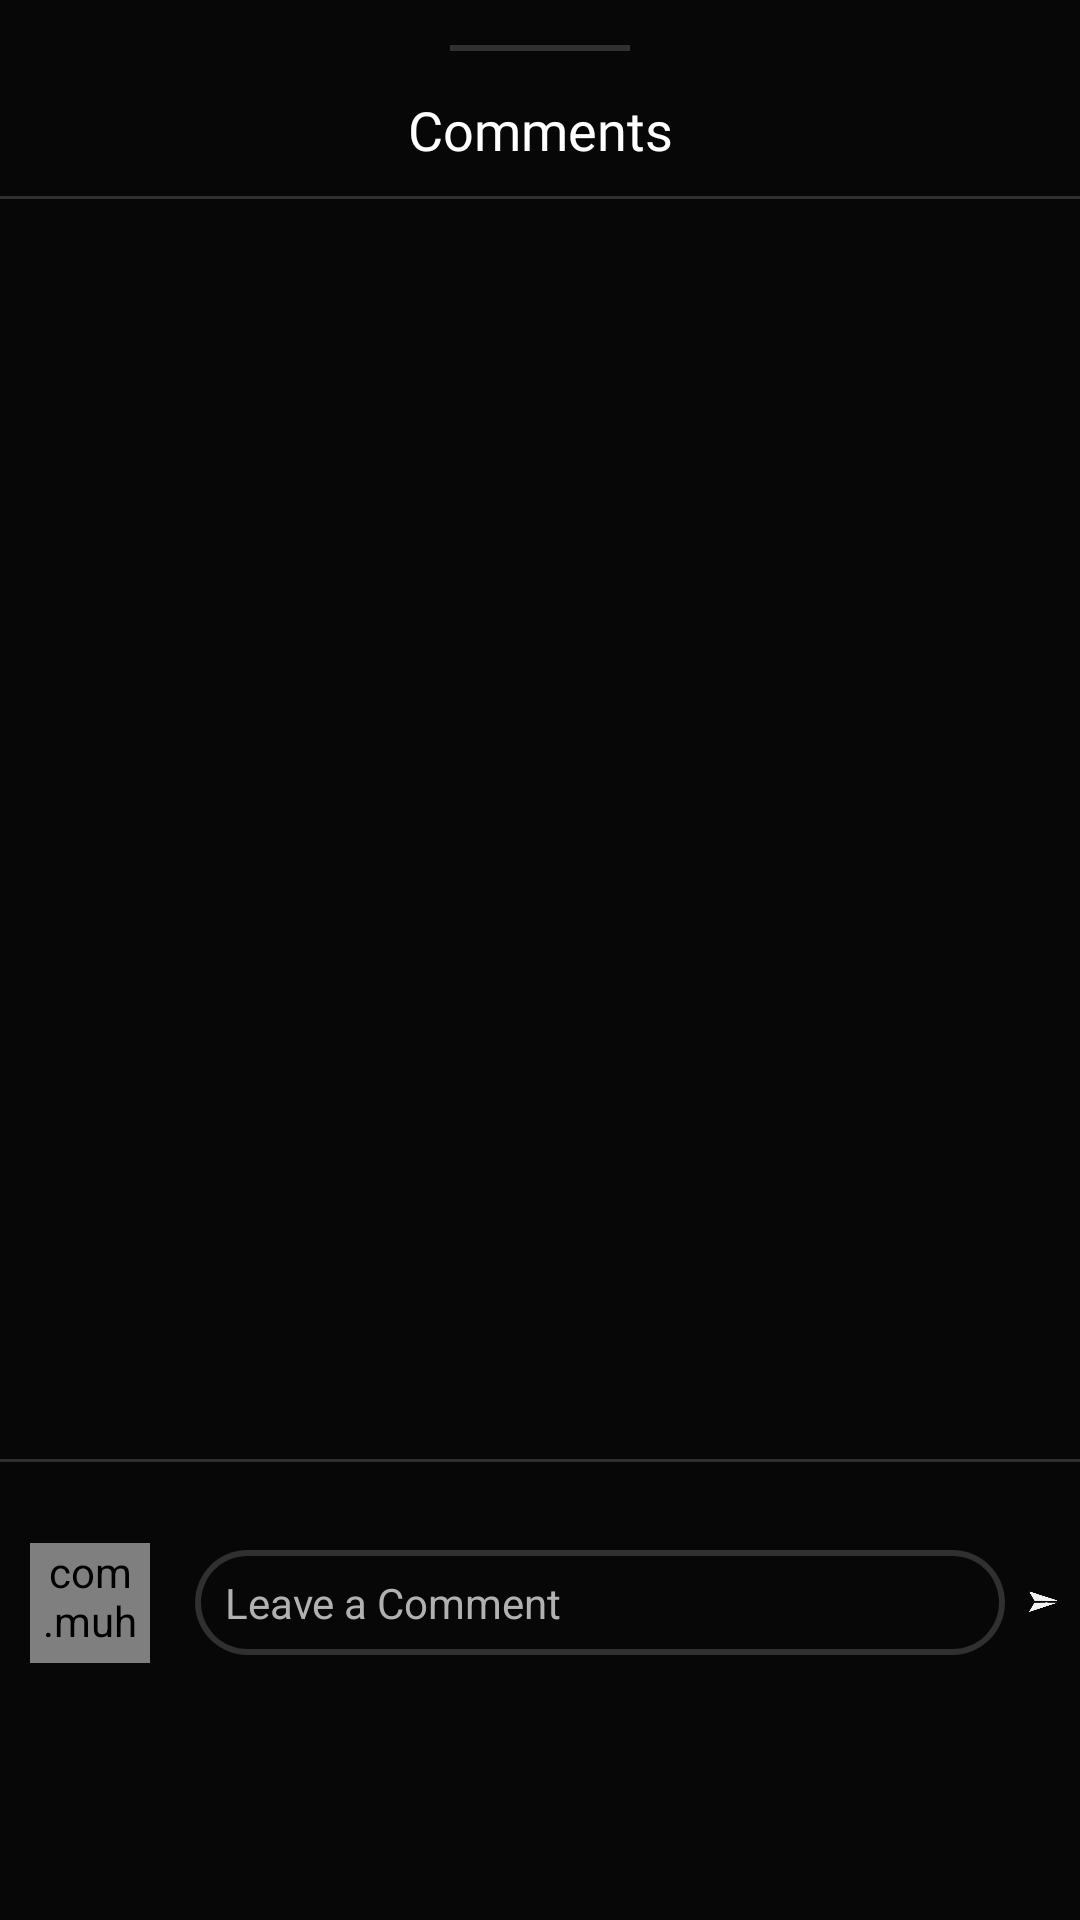

Point at icon controls on the screen. Image size 1080 × 1920, points as (x=x, y=y).
sendimage: (x=1043, y=1601)
